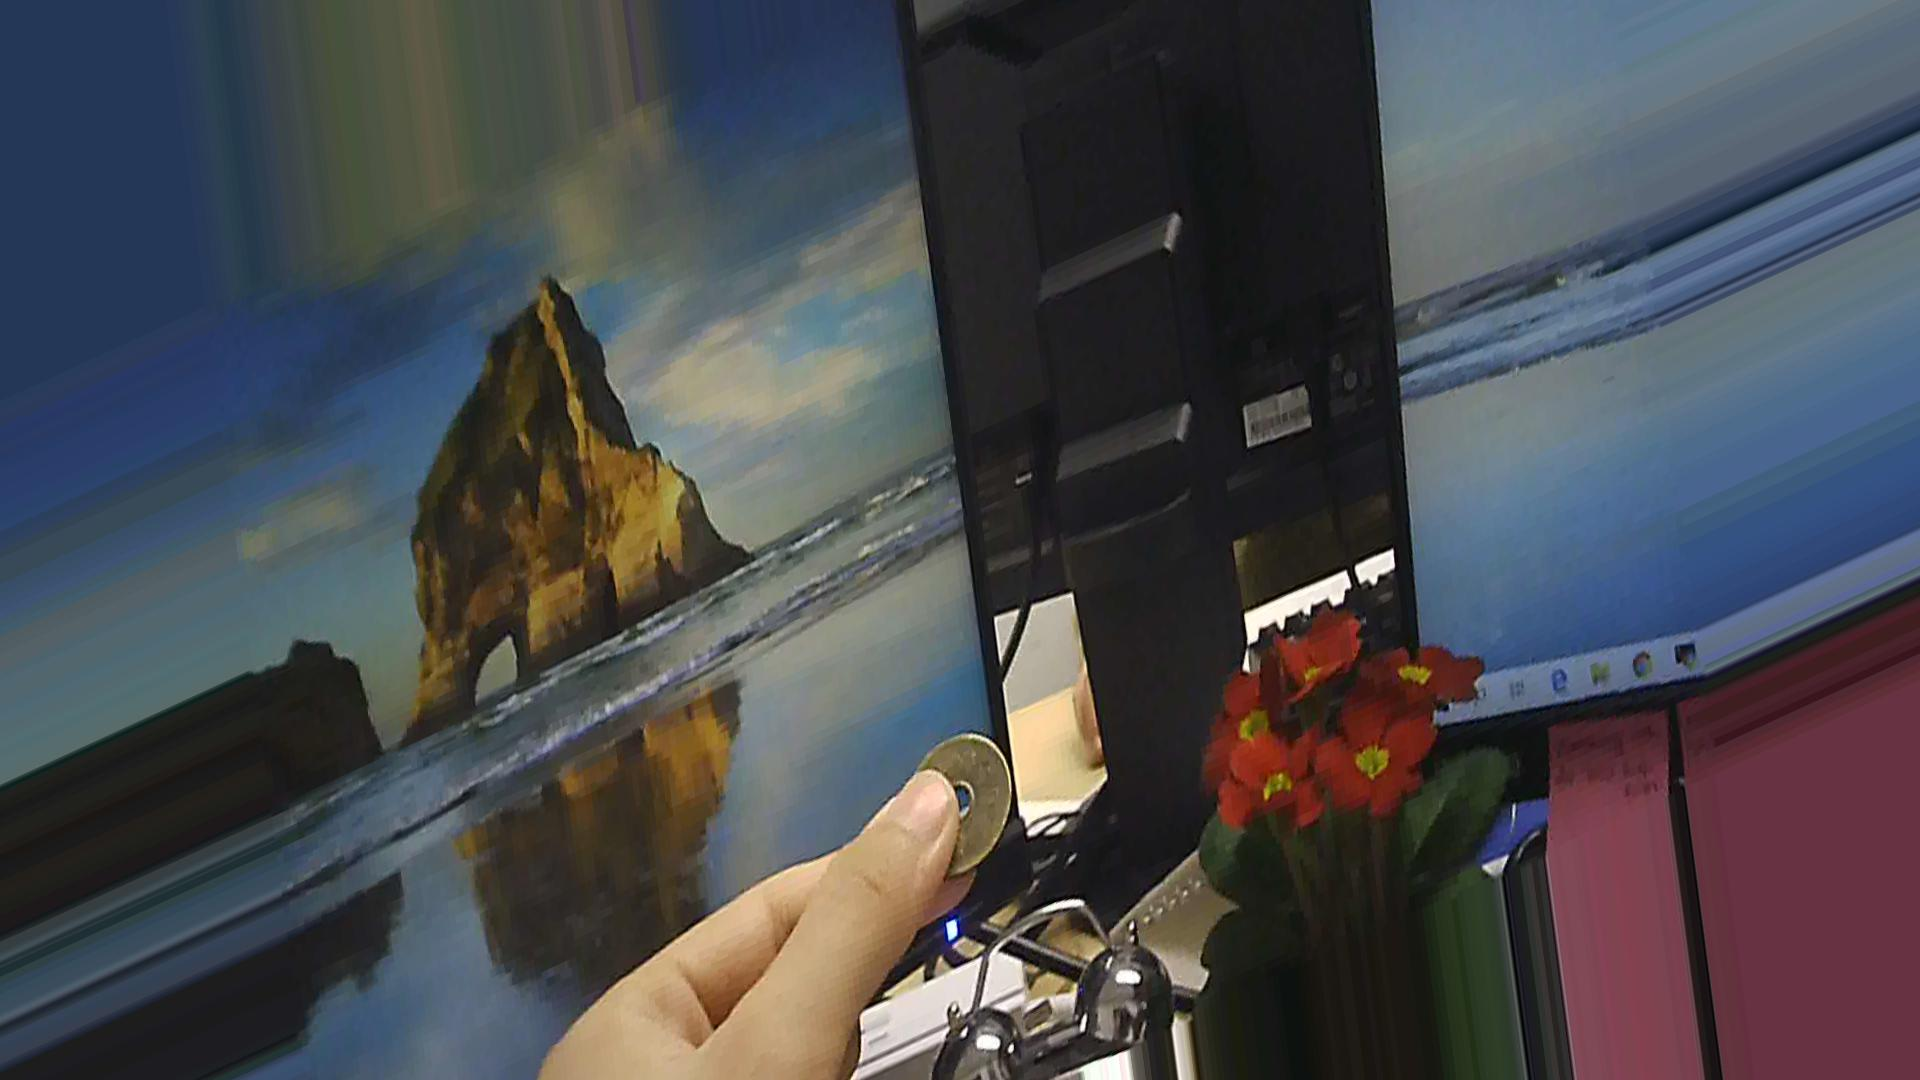5 Yen: (891, 732, 1007, 876)
